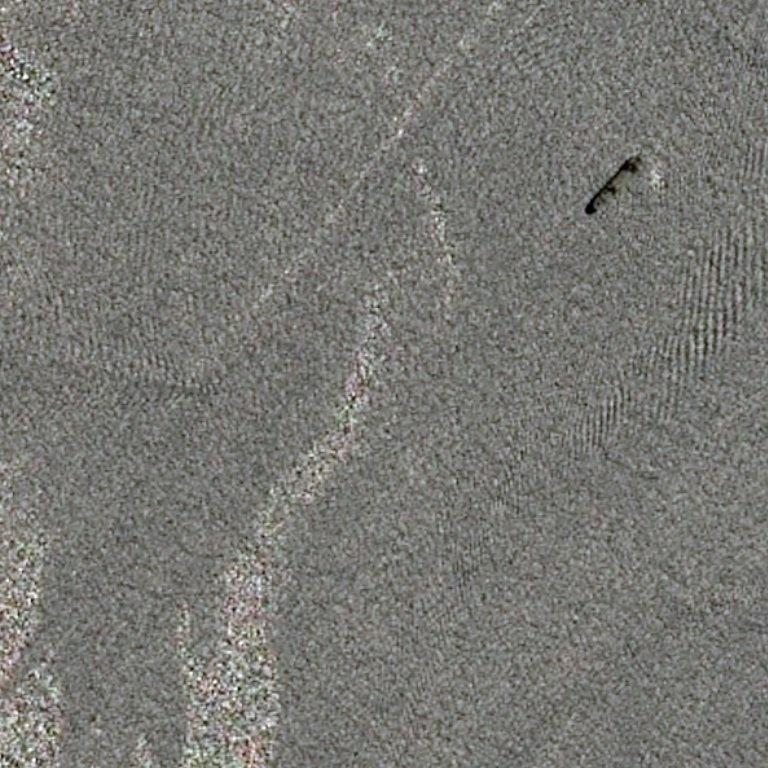ship: (581, 143, 648, 220), (586, 209, 592, 215), (632, 152, 636, 156), (642, 8, 645, 12)
